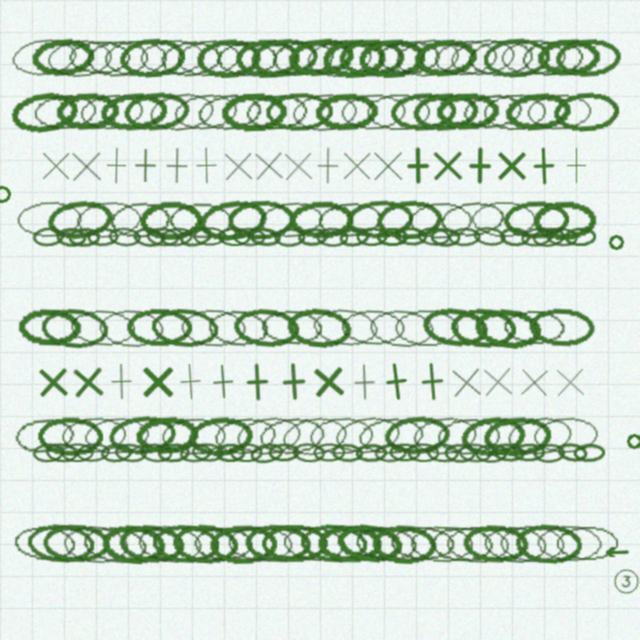chain: (196, 196, 269, 244), (8, 88, 80, 136), (279, 412, 351, 460), (447, 34, 519, 81), (146, 88, 218, 135), (233, 412, 305, 459), (332, 412, 404, 459), (504, 412, 576, 459), (420, 304, 491, 351), (392, 34, 462, 81), (334, 520, 404, 567), (45, 197, 116, 243), (472, 305, 543, 351), (79, 521, 150, 567), (171, 89, 241, 135), (256, 413, 327, 458), (355, 413, 426, 458), (459, 413, 528, 459), (9, 35, 79, 80), (122, 89, 192, 134), (194, 89, 264, 134), (437, 197, 507, 242), (310, 305, 380, 350), (107, 413, 177, 458), (268, 35, 337, 80), (286, 35, 355, 80), (285, 305, 354, 350), (211, 413, 280, 458), (410, 413, 479, 458), (135, 521, 204, 566), (45, 36, 115, 80), (249, 36, 319, 80), (304, 36, 374, 80), (431, 36, 501, 80), (77, 90, 147, 134), (290, 90, 360, 134), (411, 90, 481, 134), (40, 306, 110, 350), (367, 306, 437, 350), (482, 414, 552, 458), (117, 522, 187, 566), (459, 89, 527, 134), (31, 90, 100, 134), (99, 90, 168, 134), (503, 90, 572, 134), (257, 198, 326, 242), (315, 198, 384, 242), (150, 306, 219, 350), (82, 414, 151, 458), (61, 522, 130, 566), (280, 522, 349, 566), (352, 522, 421, 566), (481, 522, 550, 566), (465, 36, 535, 79), (482, 36, 552, 79), (531, 414, 601, 457), (514, 522, 584, 565), (157, 36, 225, 80), (412, 36, 480, 80), (232, 306, 300, 350), (11, 414, 79, 458), (187, 414, 255, 458), (100, 522, 168, 566), (174, 36, 243, 79), (345, 198, 414, 241), (59, 414, 128, 457), (383, 414, 452, 457), (26, 522, 95, 565), (299, 522, 368, 565), (118, 36, 186, 79), (518, 36, 586, 79), (242, 90, 310, 133), (552, 90, 620, 133), (375, 198, 443, 241), (258, 306, 326, 349), (449, 306, 517, 349), (307, 414, 375, 457), (11, 522, 79, 565), (171, 522, 239, 565), (357, 37, 426, 79), (554, 37, 623, 79), (525, 91, 594, 133), (74, 199, 143, 241), (68, 307, 137, 349), (97, 307, 166, 349), (151, 523, 220, 565), (226, 523, 295, 565), (30, 36, 97, 79), (107, 198, 174, 241), (205, 306, 272, 349), (134, 414, 201, 457), (84, 37, 152, 79), (195, 37, 263, 79), (339, 91, 407, 133), (389, 91, 457, 133), (435, 415, 503, 457), (444, 523, 512, 565), (462, 523, 530, 565), (227, 199, 296, 240), (42, 523, 111, 564), (498, 523, 567, 564), (321, 37, 388, 79), (371, 523, 438, 565), (102, 37, 170, 78), (138, 37, 206, 78), (499, 37, 567, 78), (481, 91, 549, 132), (15, 199, 83, 240), (179, 307, 247, 348), (528, 307, 596, 348), (388, 523, 456, 564), (408, 523, 476, 564), (535, 523, 603, 564), (314, 91, 380, 133), (375, 37, 442, 78), (220, 91, 287, 132), (339, 307, 406, 348), (501, 307, 568, 348), (244, 523, 311, 564), (428, 523, 495, 564), (338, 38, 406, 78), (265, 92, 333, 132), (407, 200, 475, 240), (160, 416, 228, 456), (209, 524, 277, 564), (536, 37, 602, 78), (55, 91, 121, 132), (435, 91, 501, 132), (17, 307, 83, 348), (167, 200, 234, 240), (393, 308, 461, 347), (261, 524, 329, 563), (235, 38, 301, 78), (289, 200, 355, 240), (503, 200, 569, 240), (532, 200, 598, 240), (37, 416, 103, 456), (317, 524, 383, 564), (470, 200, 537, 239), (554, 524, 621, 563), (215, 38, 280, 78), (139, 200, 204, 240), (191, 524, 256, 564), (66, 38, 132, 77), (365, 92, 431, 131), (126, 308, 192, 347), (178, 224, 214, 250), (249, 441, 284, 465), (520, 225, 554, 249), (472, 225, 507, 248), (338, 225, 371, 248), (556, 441, 589, 464), (132, 226, 166, 248), (146, 226, 180, 248), (139, 442, 173, 464), (108, 226, 141, 248), (160, 226, 193, 248), (248, 226, 281, 248), (532, 226, 565, 248), (545, 226, 578, 248), (114, 442, 147, 464), (179, 442, 212, 464), (417, 226, 451, 247), (76, 442, 110, 463), (491, 442, 525, 463), (32, 226, 65, 247), (395, 226, 428, 247), (32, 442, 65, 463), (45, 442, 78, 463), (100, 442, 133, 463), (157, 442, 190, 463), (191, 442, 224, 463), (292, 442, 325, 463), (426, 442, 459, 463), (458, 443, 492, 463), (499, 226, 531, 247), (233, 227, 266, 247), (448, 227, 481, 247), (331, 443, 364, 463), (374, 443, 407, 463), (475, 443, 508, 463), (533, 443, 566, 463), (68, 227, 100, 247), (87, 227, 119, 247), (274, 227, 306, 247), (297, 227, 329, 247), (316, 227, 348, 247), (355, 443, 387, 463), (444, 443, 476, 463), (573, 443, 605, 463), (193, 227, 226, 246), (218, 227, 251, 246), (61, 443, 94, 462), (230, 443, 263, 462), (512, 443, 545, 462), (56, 227, 87, 247), (430, 227, 461, 247), (356, 227, 388, 246), (376, 227, 408, 246), (564, 227, 596, 246), (268, 443, 300, 462), (313, 443, 345, 462), (389, 443, 421, 462), (407, 443, 439, 462), (215, 443, 246, 462)
noise: (611, 566, 640, 596), (606, 232, 626, 252), (624, 431, 640, 451), (0, 183, 13, 205), (603, 547, 629, 557)
single: (375, 360, 418, 403), (67, 361, 109, 403), (445, 361, 487, 403), (248, 145, 289, 186), (170, 361, 211, 402), (202, 361, 243, 402), (273, 361, 314, 402), (308, 361, 349, 402), (412, 361, 453, 402), (477, 361, 518, 402), (66, 146, 106, 186), (218, 146, 258, 186), (278, 146, 318, 186), (524, 146, 564, 186), (33, 362, 73, 402), (344, 362, 384, 402), (514, 362, 554, 402), (550, 362, 590, 402), (238, 362, 277, 402), (36, 146, 75, 185), (97, 146, 136, 185), (126, 146, 165, 185), (157, 146, 196, 185), (187, 146, 226, 185), (308, 146, 347, 185), (337, 146, 376, 185), (368, 146, 407, 185), (398, 146, 437, 185), (428, 146, 467, 185), (460, 146, 499, 185), (492, 146, 531, 185), (557, 146, 596, 185), (102, 362, 141, 401), (138, 362, 177, 401)
